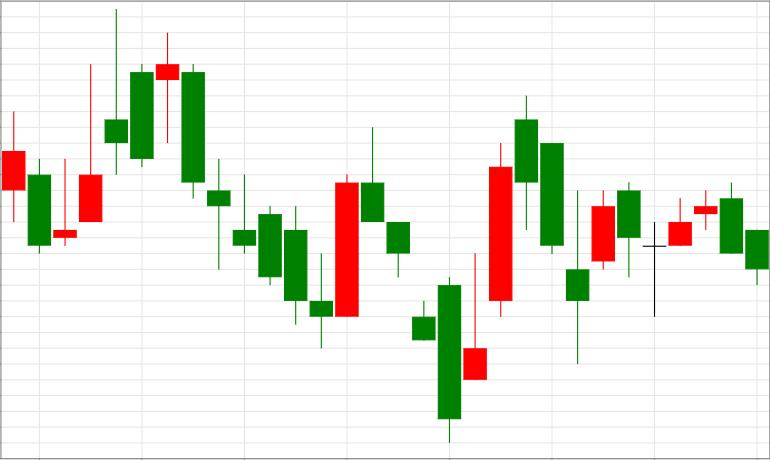inverse_hammer_rise: (361, 127, 487, 442)
